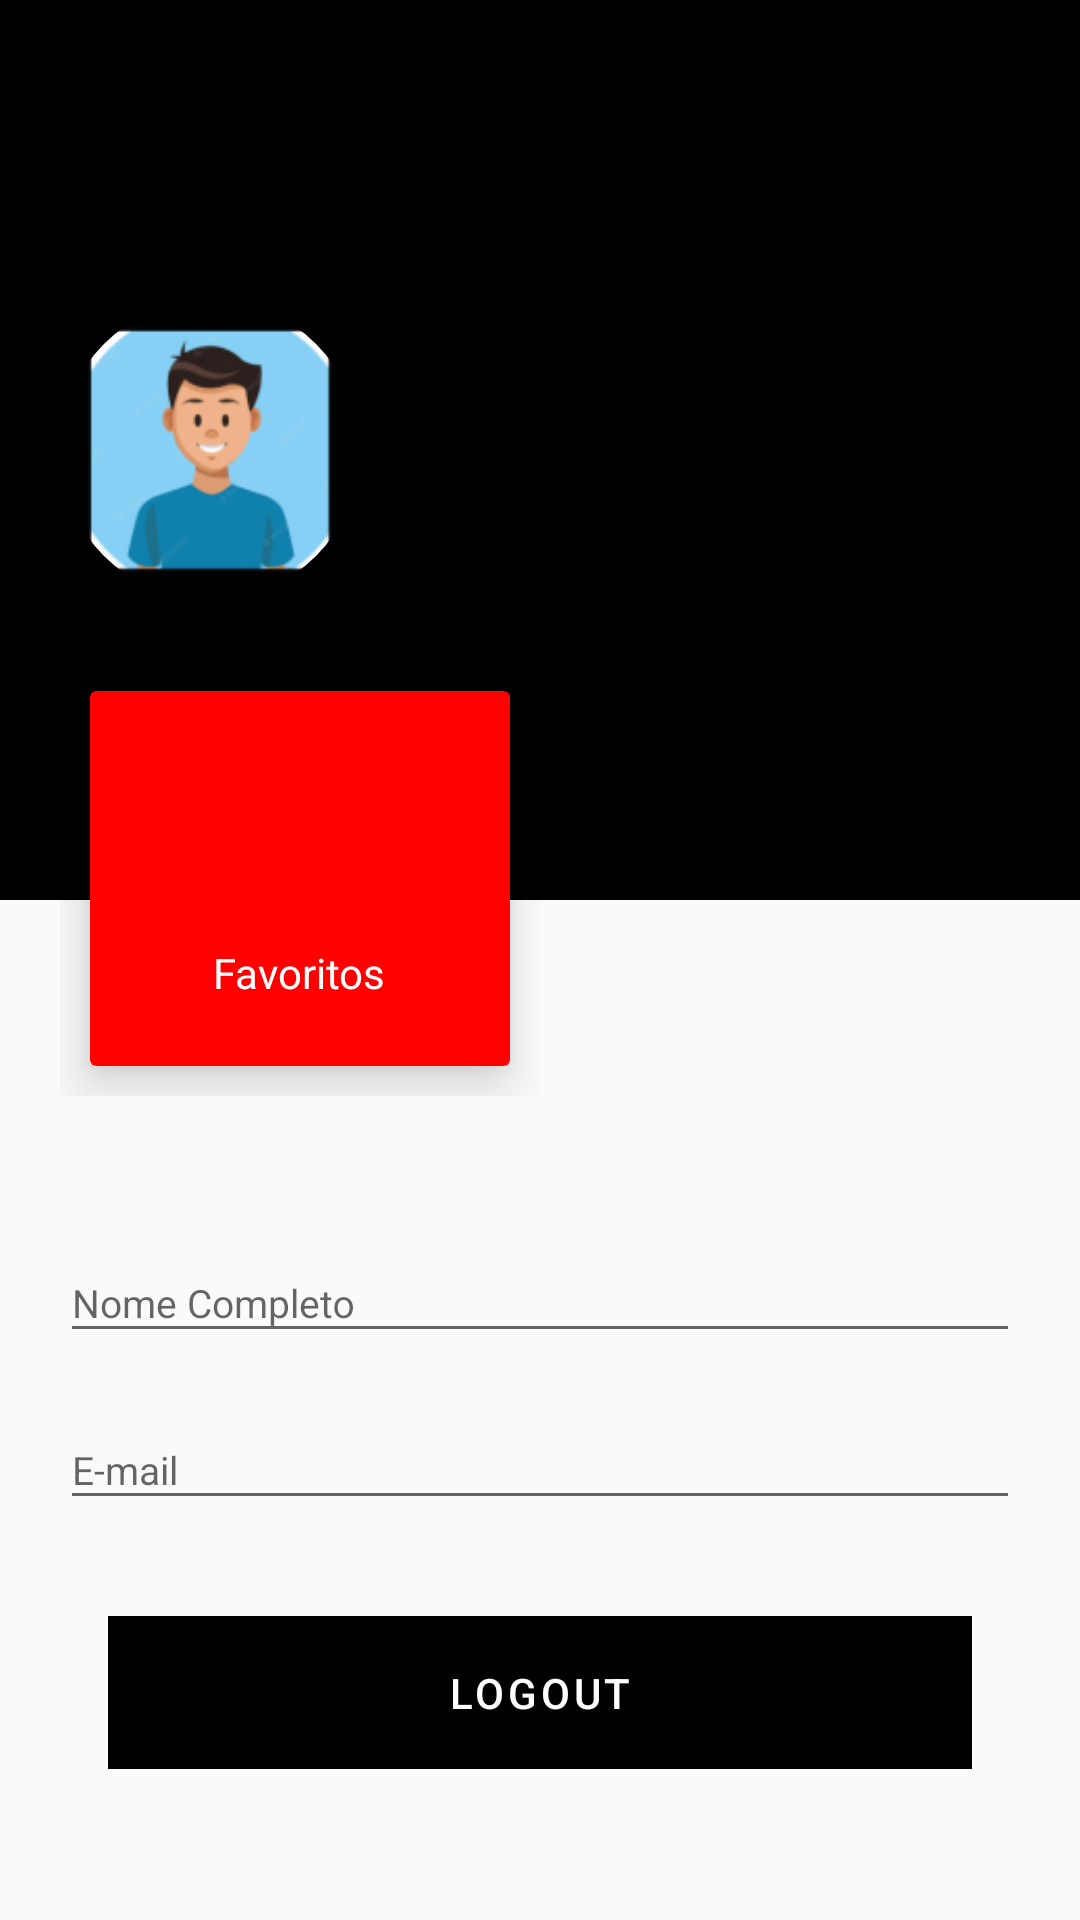

Where icons sit on this 1080px×1920px app screen, as bbox=(x1, y1, x2, y2):
perfil: bbox=(90, 330, 330, 570)
